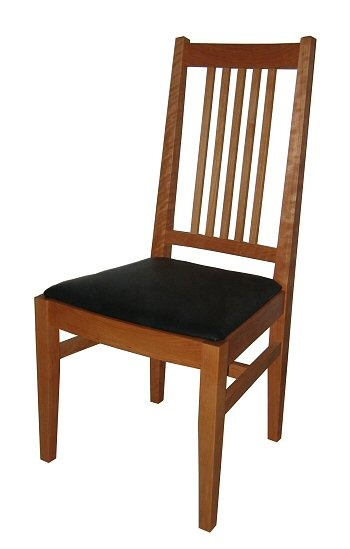obstacle: (35, 37, 315, 530)
